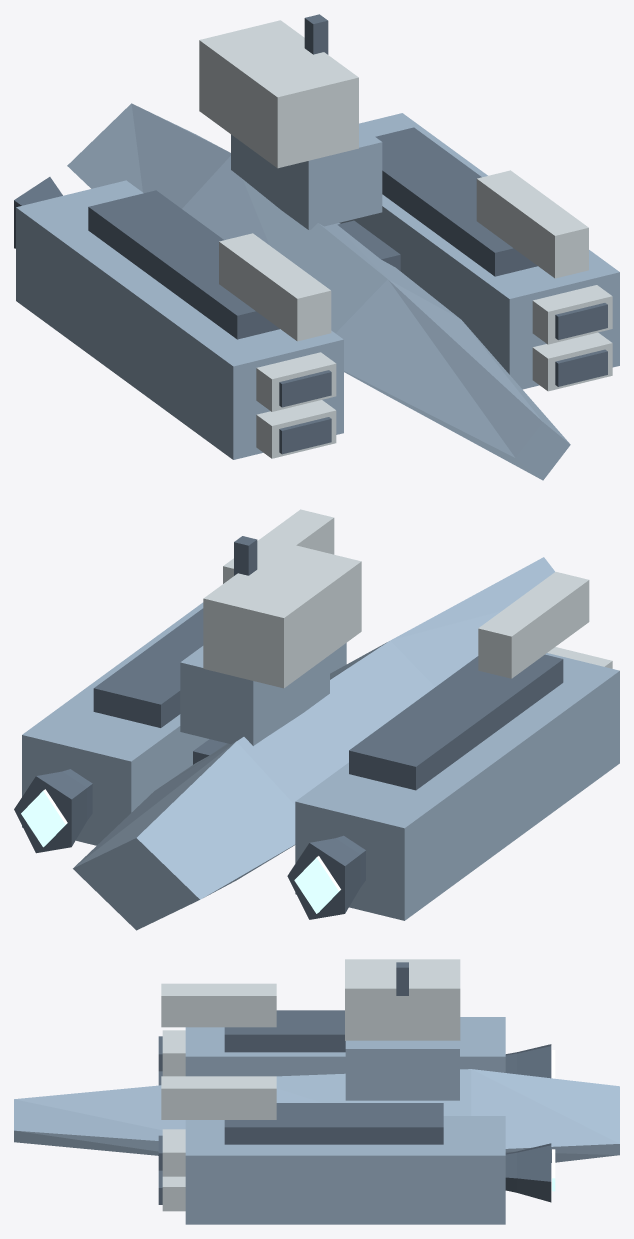
The picture shows the model from 3 angles, top to bottom: view 1: azimuth 30°, elevation 25°; view 2: azimuth 150°, elevation 25°; view 3: azimuth 270°, elevation 25°; orthographic projection. The views are drawn at different scales.
Size of the model in its own units: 11.4 by 8.87 by 21.02.
